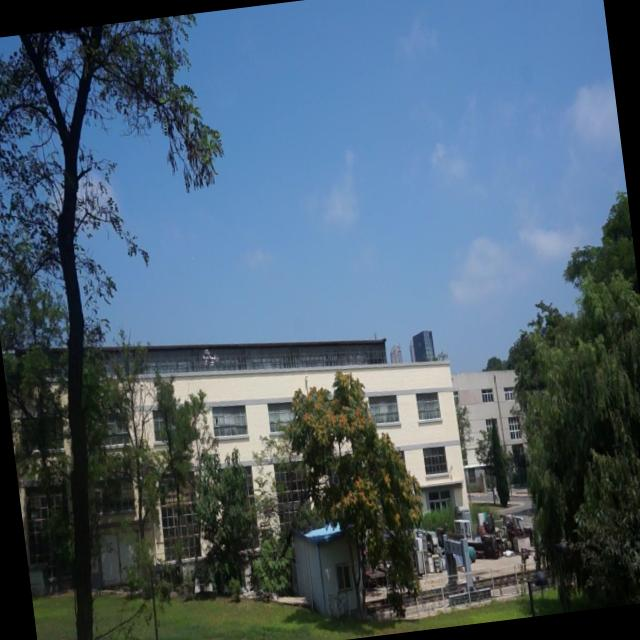drone: (200, 344, 223, 370)
